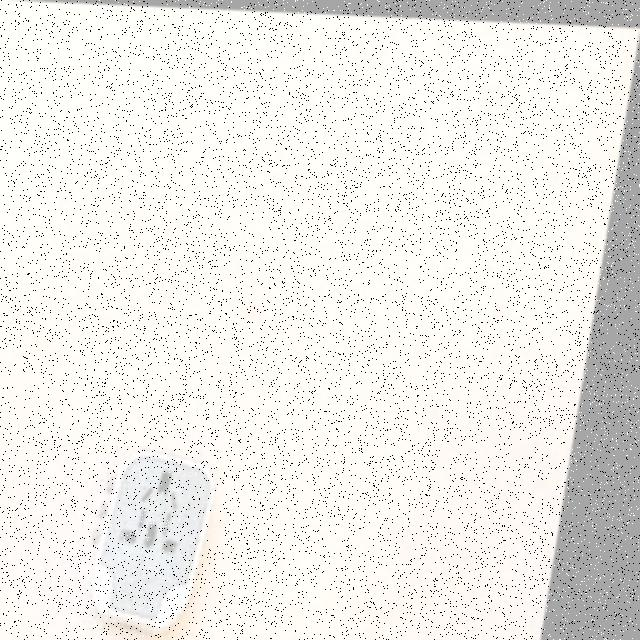adapter: (97, 444, 238, 632)
